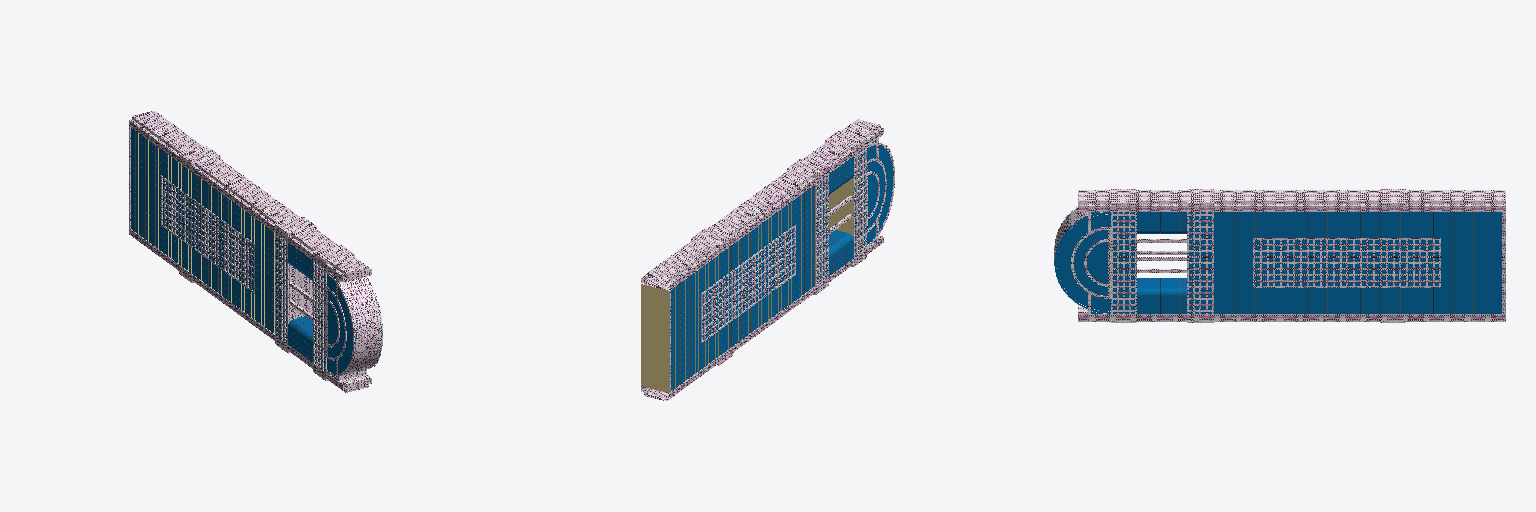
3 views of the same model, side by side, from view 1: azimuth 30°, elevation 25°; view 2: azimuth 150°, elevation 25°; view 3: azimuth 270°, elevation 25° (orthographic).
Parts seen in each view (by area): view 1: Glass_02, Wall_15, Wall_03, Wall_01, Wall_02, Wall_09, Glass_04, Wall_08, Slab_01, Wall_07, Glass_01, Wall_04 (+2 smaller); view 2: Glass_02, Slab_01, Wall_03, Wall_01, Wall_02, Wall_09, Glass_04, Wall_08, Wall_07, Wall_04, Glass_01, Frame_01 (+2 smaller); view 3: Glass_02, Wall_03, Wall_01, Glass_04, Wall_08, Wall_02, Glass_01, Wall_04, Wall_09, Wall_07, Glass_03, Wall_15 (+2 smaller).
Part boxes in pixels (x1,y1,x2,y2): Glass_02: (131,128,286,342); Wall_15: (130,127,382,392); Wall_03: (192,157,299,340); Wall_01: (179,146,353,380); Wall_02: (129,111,203,270); Wall_09: (161,175,254,293); Glass_04: (327,274,382,379); Wall_08: (162,176,253,292); Slab_01: (138,133,274,333); Wall_07: (275,233,326,371); Glass_01: (288,243,312,361); Wall_04: (288,227,337,368); Glass_02: (650,176,826,390); Slab_01: (641,154,859,392); Wall_03: (707,169,815,352); Wall_01: (691,131,866,365); Wall_02: (641,239,718,400); Wall_09: (701,227,795,342); Glass_04: (867,140,893,244); Wall_08: (702,225,795,341); Wall_07: (815,147,866,285); Wall_04: (804,141,853,281); Glass_01: (829,156,853,275); Frame_01: (672,161,853,387); Glass_02: (1189,212,1501,313); Wall_03: (1214,190,1379,321); Wall_01: (1111,189,1405,322); Glass_04: (1054,212,1110,313); Wall_08: (1253,238,1439,287); Wall_02: (1406,190,1505,321); Glass_01: (1137,212,1186,313); Wall_04: (1137,190,1186,321); Wall_09: (1253,238,1440,287); Wall_07: (1111,212,1213,313); Glass_03: (1113,212,1134,313); Wall_15: (1054,208,1110,309).
Size of the model in its own units: 711 by 2824 by 9600.
Materials: 4 (1 with a texture image).